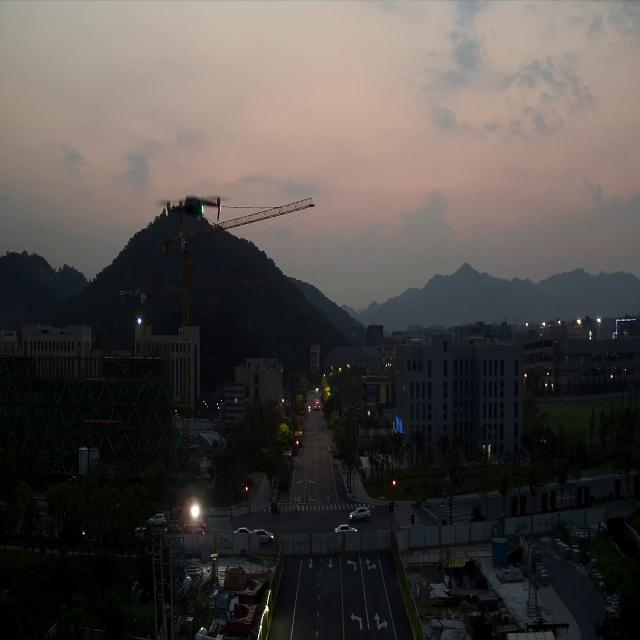UAV: (156, 191, 224, 220)
